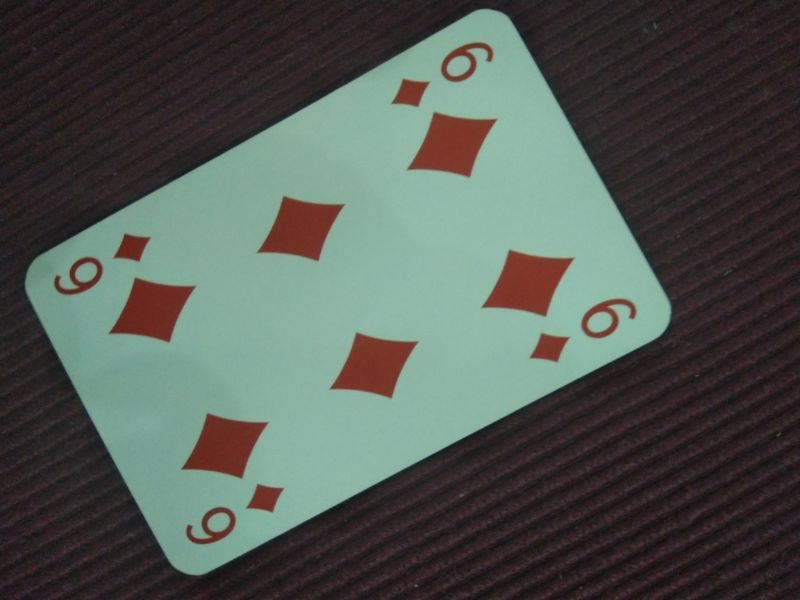6d: (525, 295, 640, 366), (389, 39, 504, 109), (180, 480, 288, 547), (52, 228, 153, 299)
